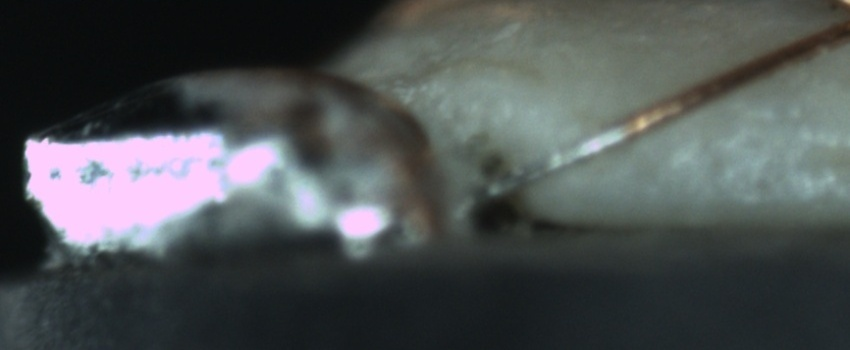TS: (477, 128, 625, 199)
